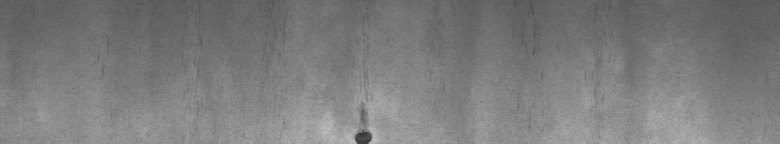fi: (348, 100, 378, 136)
